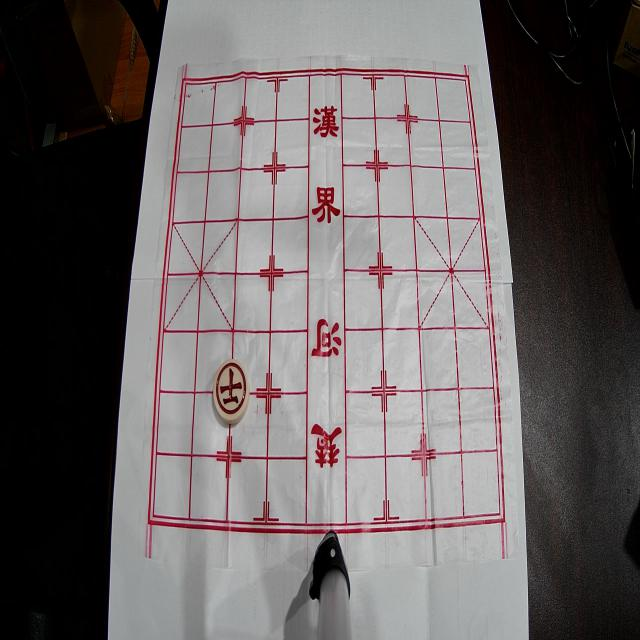red-guard: (213, 359, 250, 424)
